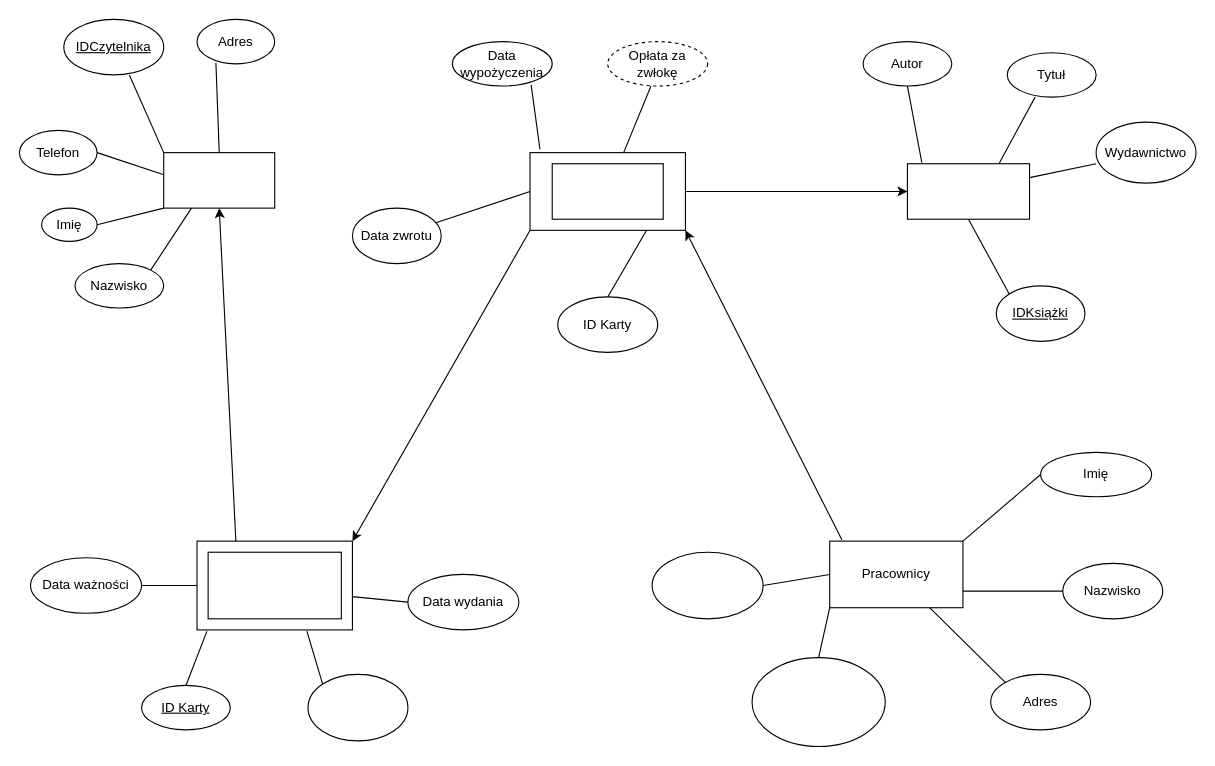
This 1215x766 diagram has some shape labels left out. Here are the shapes that lost their labels. From the top down, the centre of each, then its label:
At [219,180]: "Czytelnicy".
At [607,191]: "Wypożyczenie".
At [968,191]: "Książki".
At [274,585]: "Karta biblioteczna".
At [707,585]: "ID Pracownika".
At [357,707]: "ID Czytelnika".
At [818,701]: "Data zatrudnienia".
